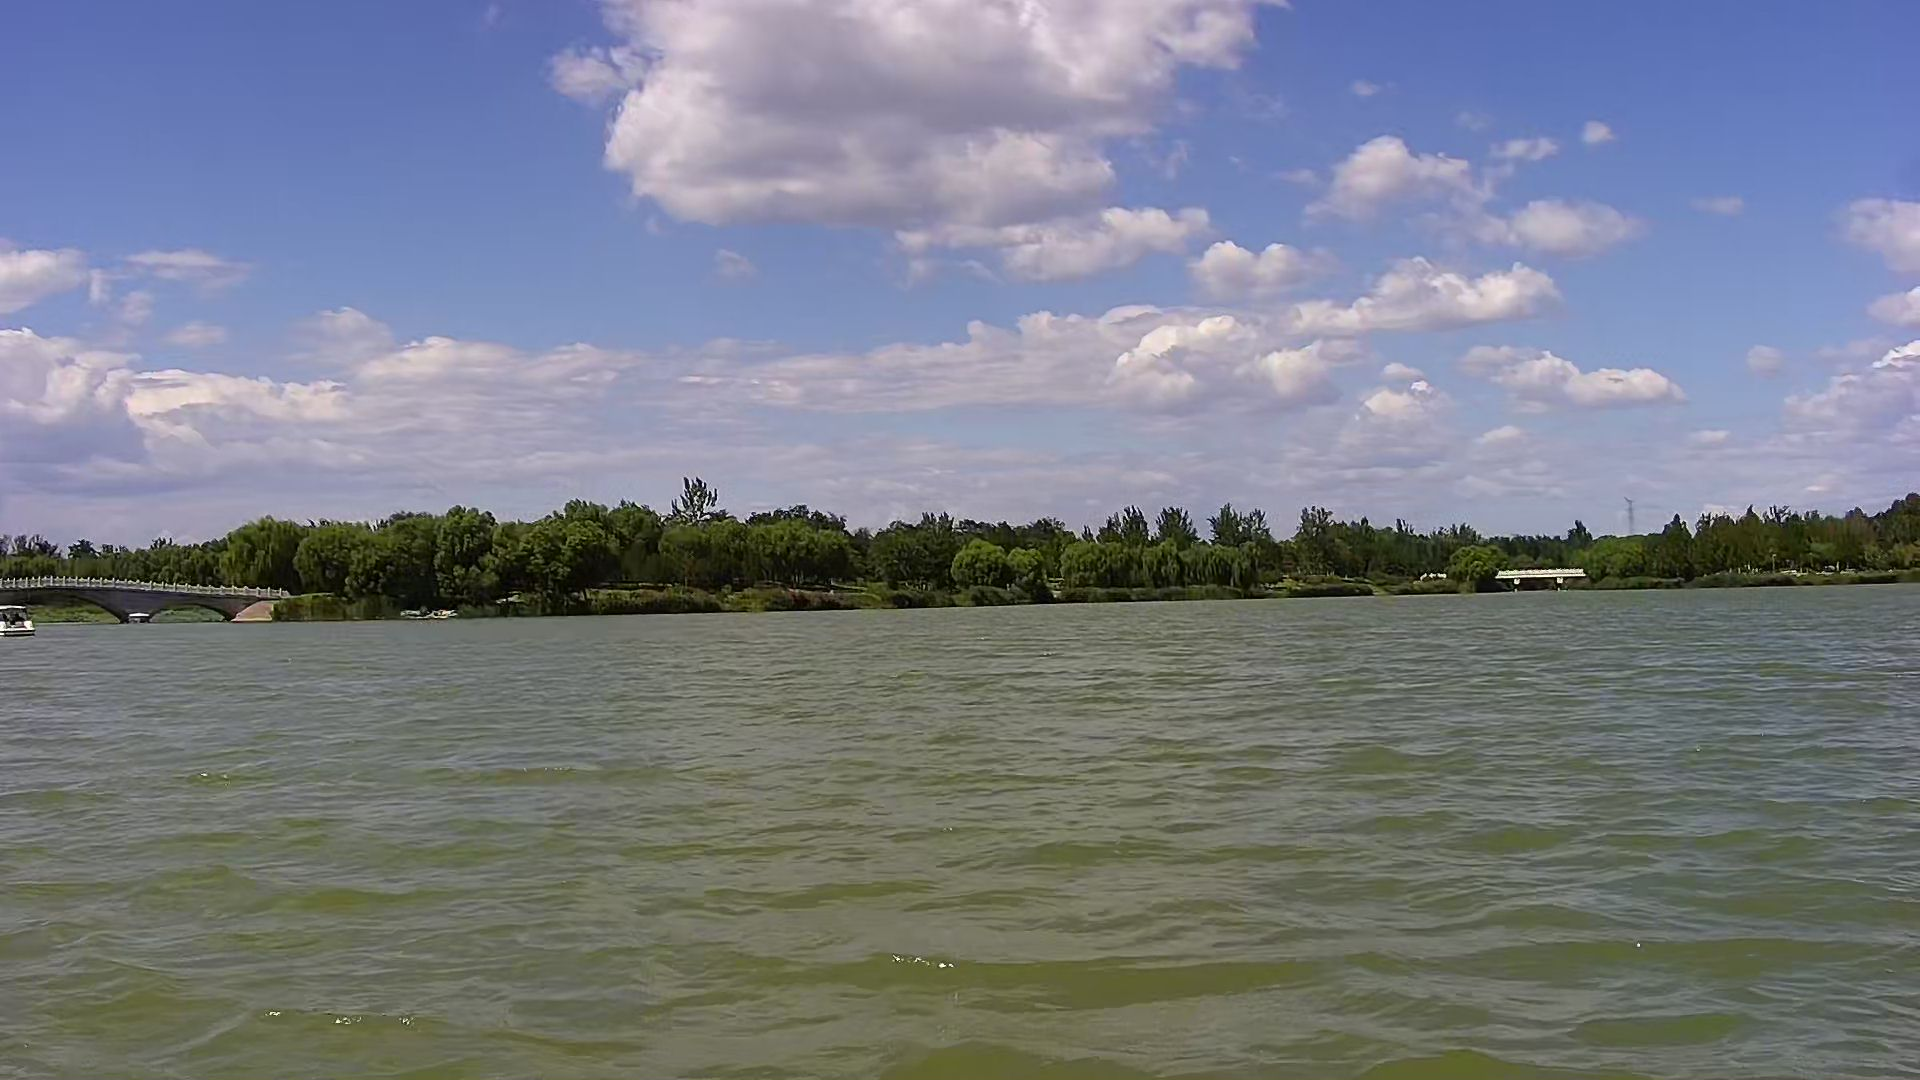boat: (1, 597, 44, 647)
bridge: (5, 568, 299, 628)
